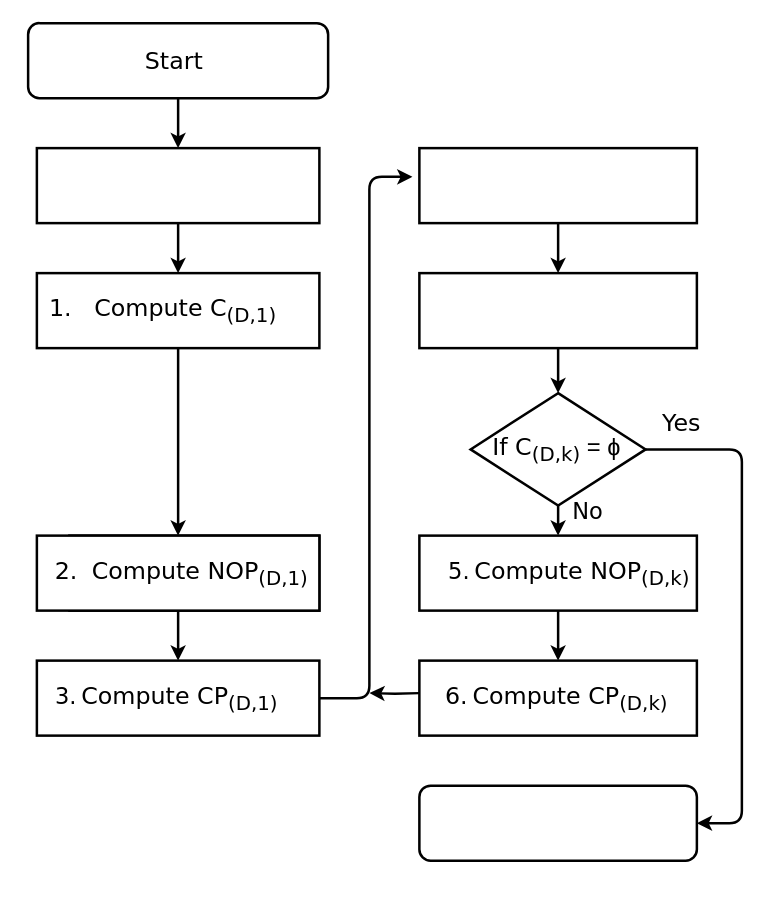
Image size: 774x914. Some labels were removed from this diagram. The centre of each missing label's shape, as x and y in pixels:
"4. Compute C (D,k)" goes at pixel 558 310.
"End" goes at pixel 558 822.
"k = 1" goes at pixel 177 185.
"k = k + 1" goes at pixel 558 185.
